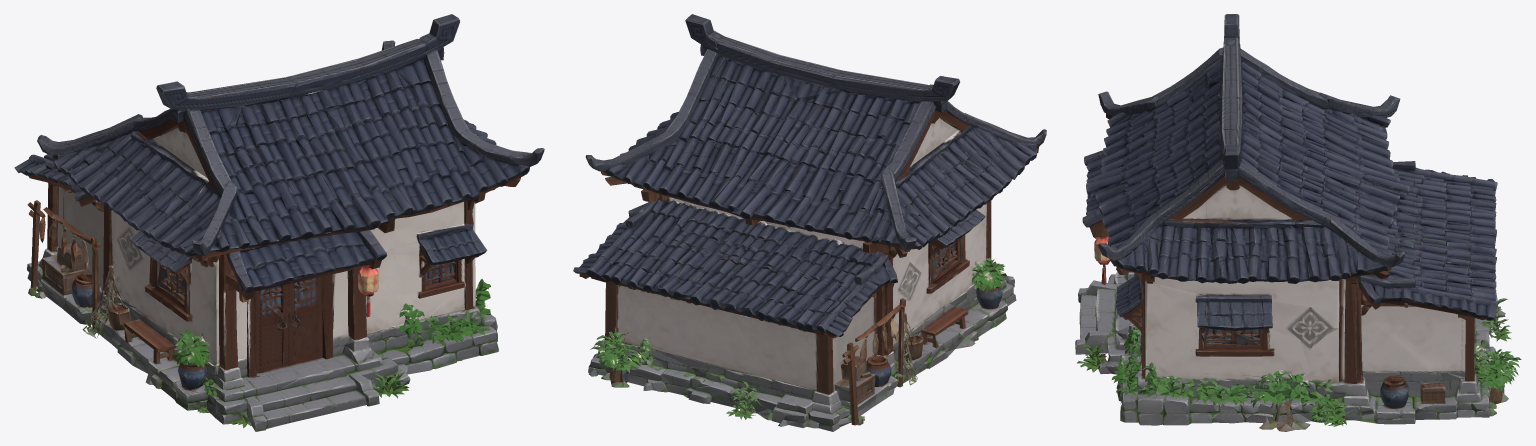
The model's file is house-village.glb.
3 views of the same model, side by side, from view 1: azimuth 30°, elevation 25°; view 2: azimuth 150°, elevation 25°; view 3: azimuth 270°, elevation 25° (orthographic). The views are drawn at different scales.
Size of the model in its own units: 1.69 by 1.31 by 1.9.
Materials: 1 (1 with a texture image).
